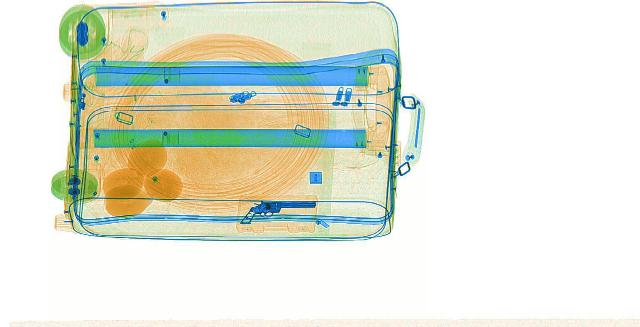Gun: (239, 199, 317, 223)
